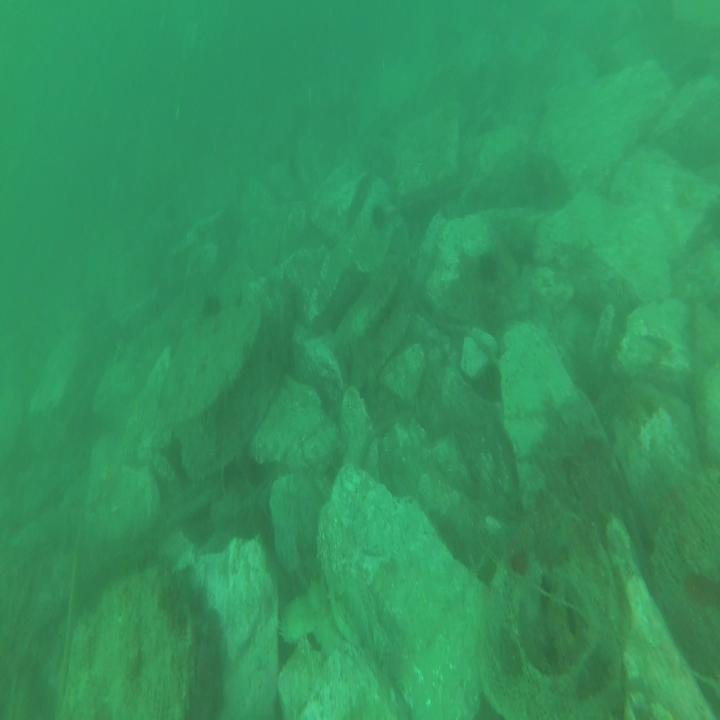echinus: (478, 248, 498, 288), (200, 291, 224, 321)
